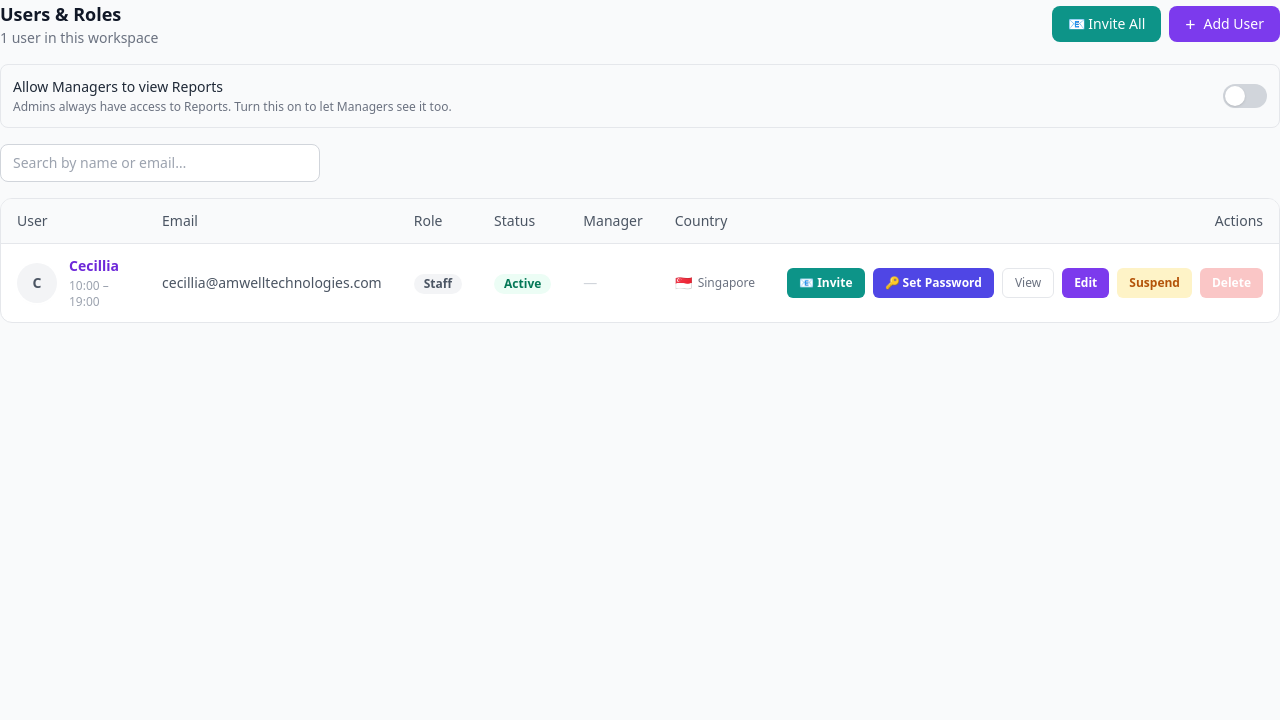
Test: UsersTab — Set Password › surfaces the function error message on failure
Expected: the text "cecillia@amwelltechnologies.com" is shown, [146, 244, 398, 322]
Click the button "🔑 Set Password": (933, 283) [872, 268, 994, 298]
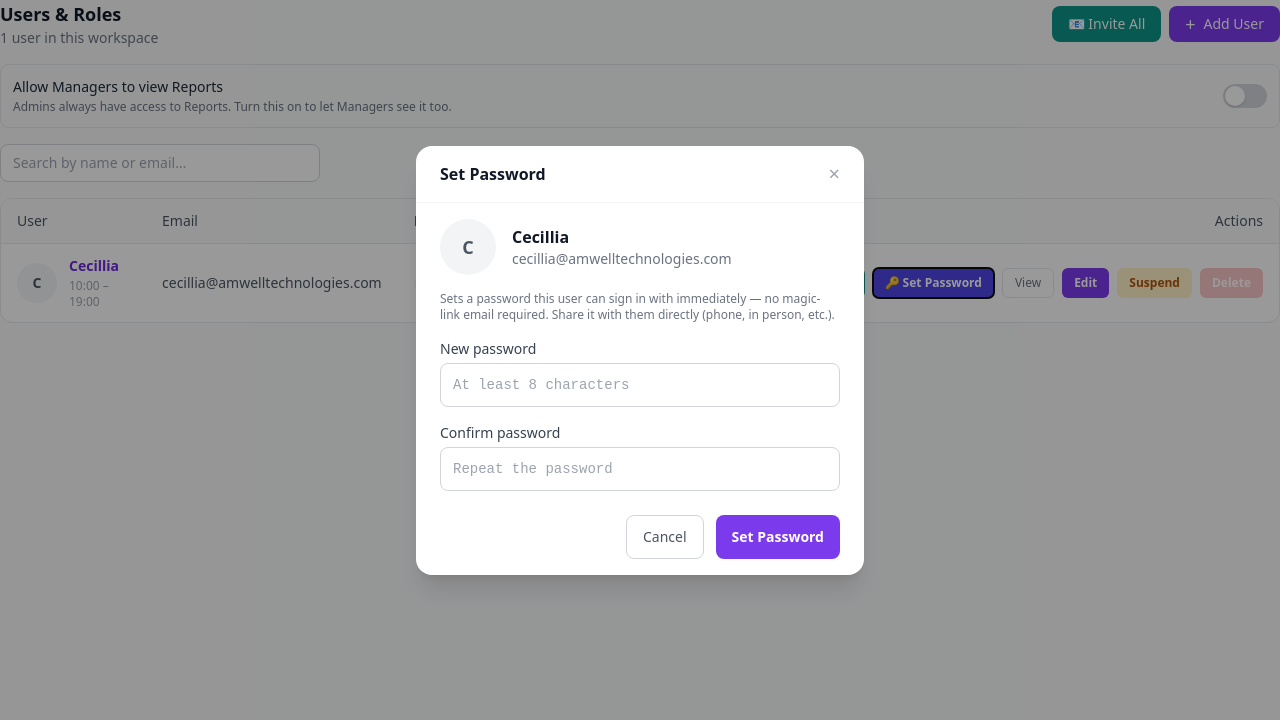
In the field with placeholder "At least 8 characters": (640, 384) [440, 362, 840, 406], type "SuperSecret1"
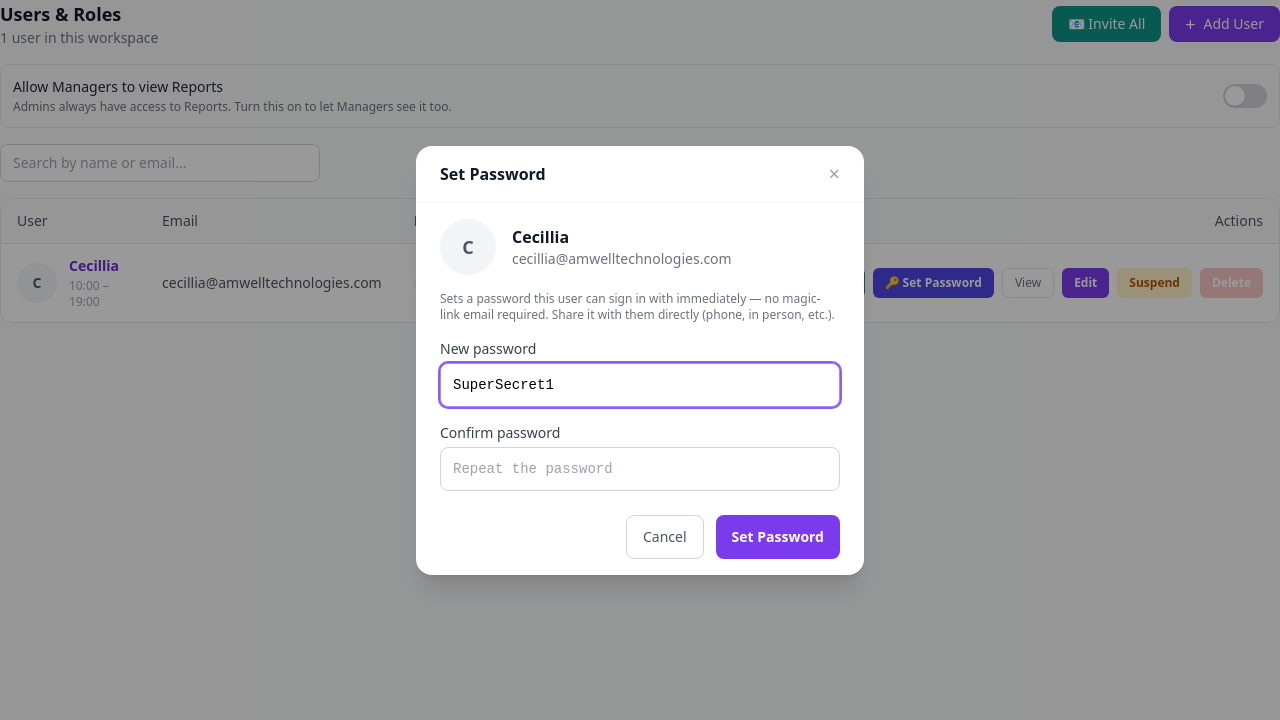
In the field with placeholder "Repeat the password": (640, 468) [440, 446, 840, 490], type "SuperSecret1"
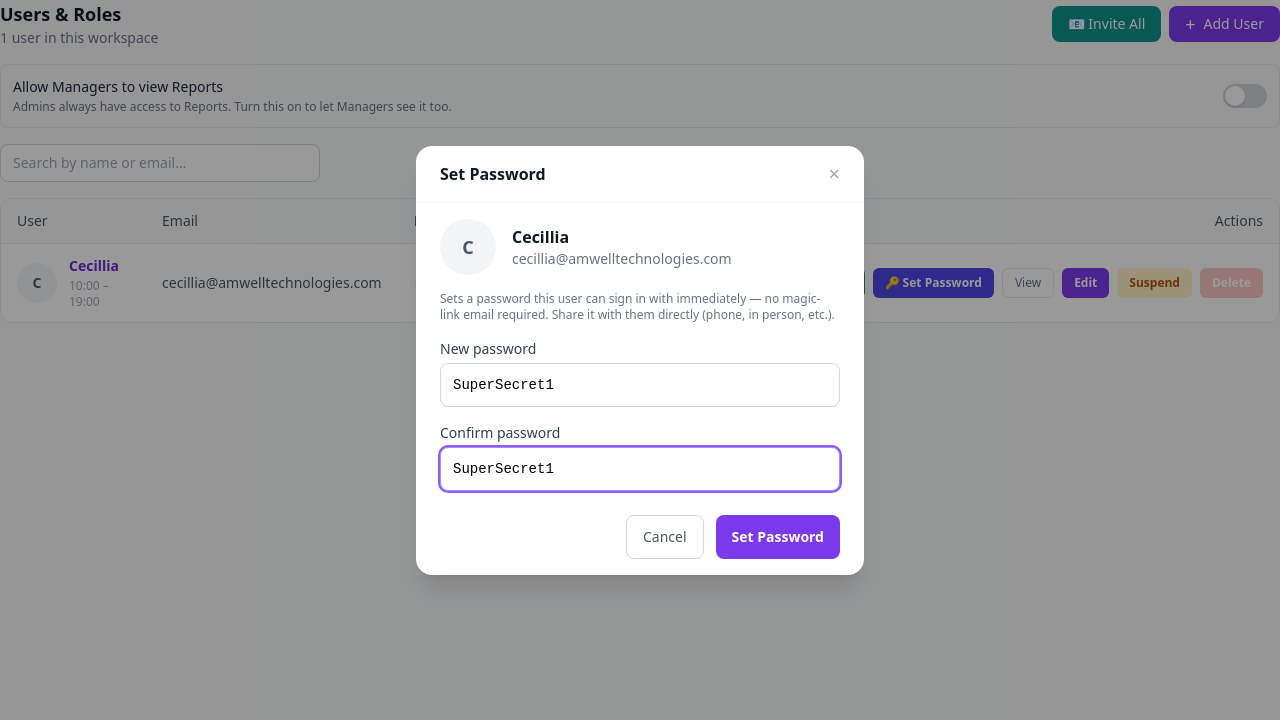
Click the button "Set Password": (778, 536) [716, 514, 840, 558]
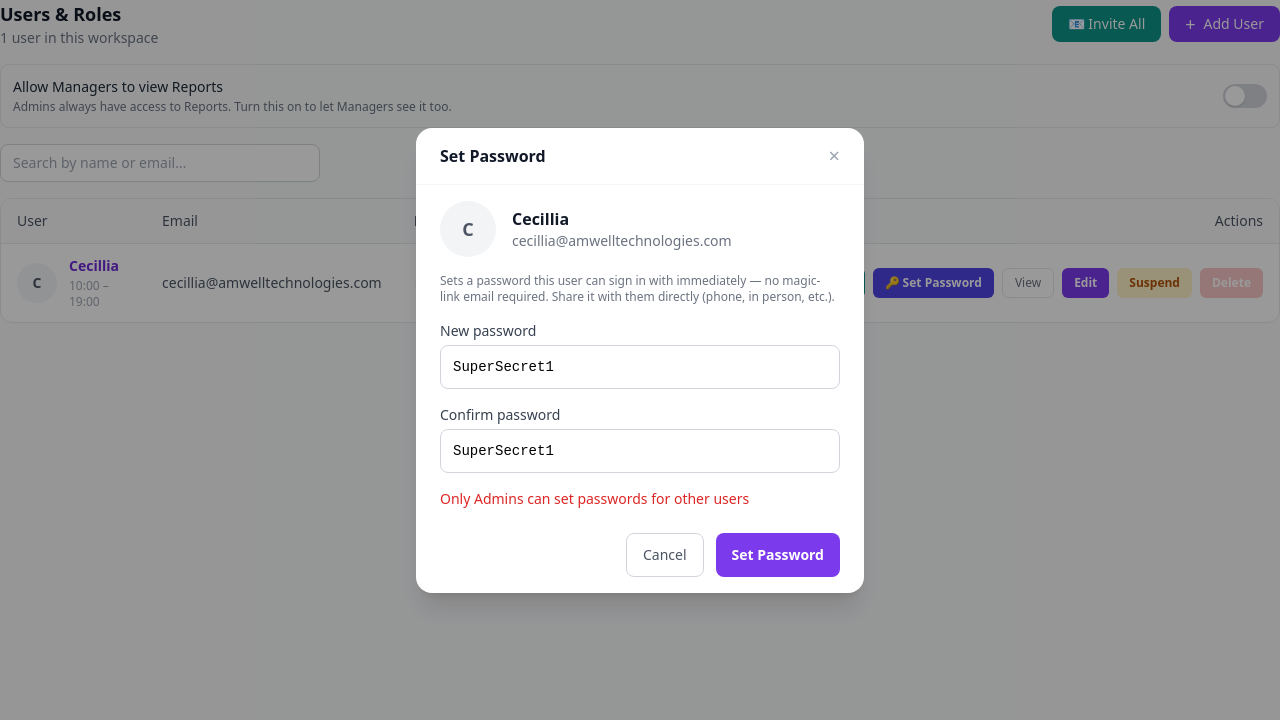
Result: the text "Only Admins can set passwords for other users" is shown at [440, 488, 749, 508]
